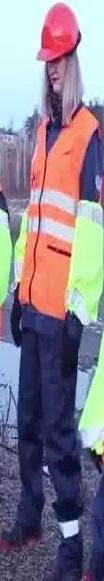boots: (0, 377, 17, 468), (0, 409, 20, 465)
gloves: (61, 310, 83, 376), (9, 286, 23, 347)
hard-hat: (0, 94, 19, 149)
vest: (0, 103, 52, 284)
